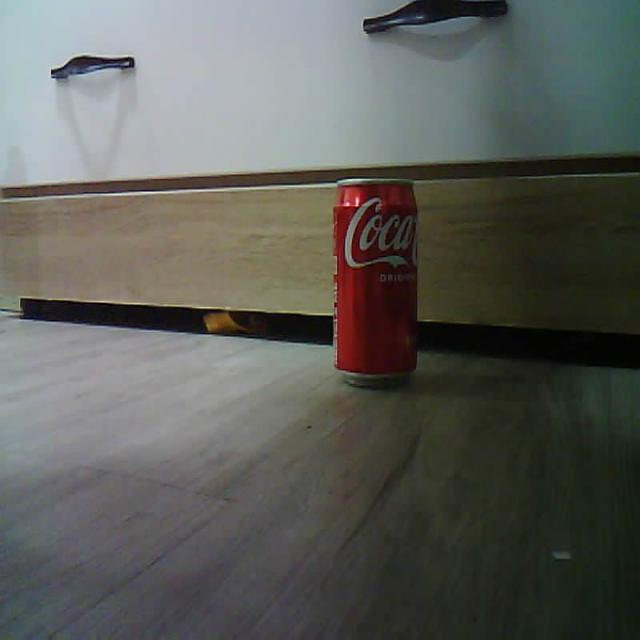can: (334, 179, 418, 386)
